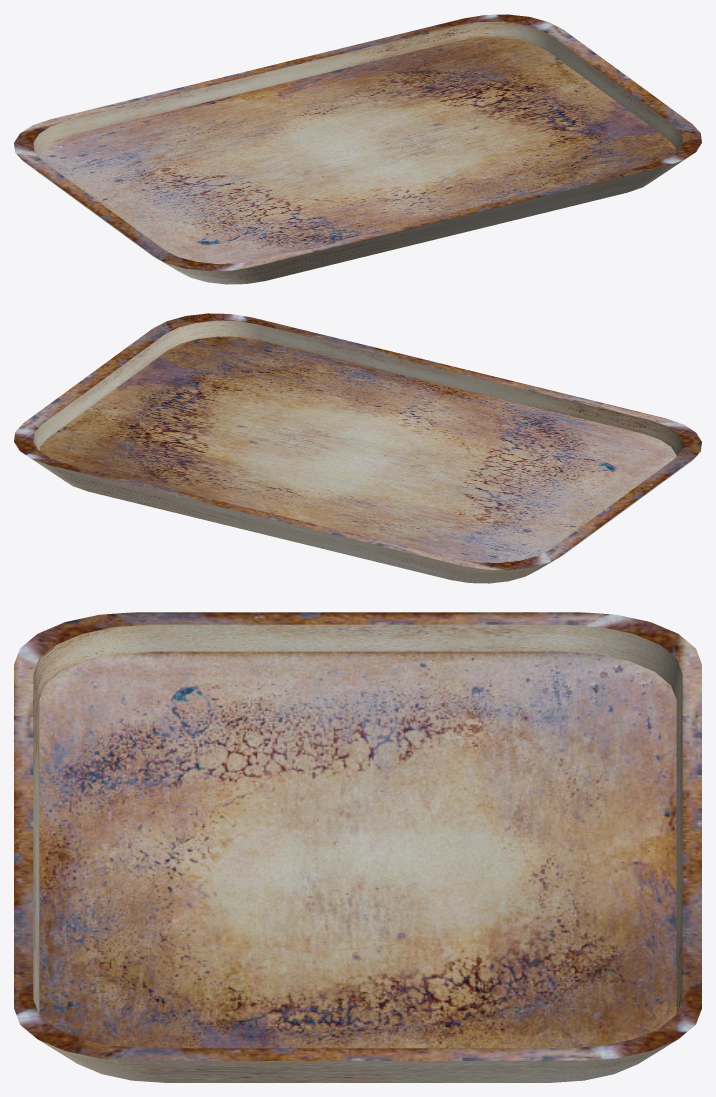
File: Baking Pan Model.fbx
The picture shows the model from 3 angles, top to bottom: view 1: azimuth 30°, elevation 25°; view 2: azimuth 150°, elevation 25°; view 3: azimuth 270°, elevation 25°; orthographic projection. The views are drawn at different scales.
Visible parts, largest first — view 1: Baking_Pan; view 2: Baking_Pan; view 3: Baking_Pan.
Boxes of the visible parts, x1,y1,x2,y2 form: Baking_Pan: (14,14,701,284); Baking_Pan: (14,313,701,583); Baking_Pan: (14,612,701,1082).
Bounding box in the file's own units: 7.76 × 0.4019 × 5.03.
1 material, 1 textured.
